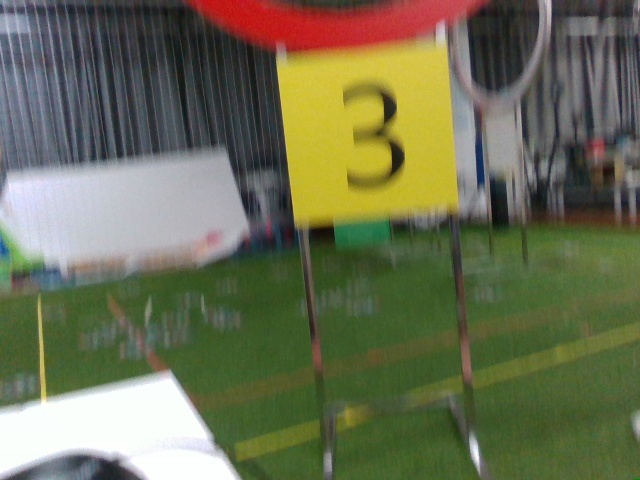target: (283, 51, 457, 214)
